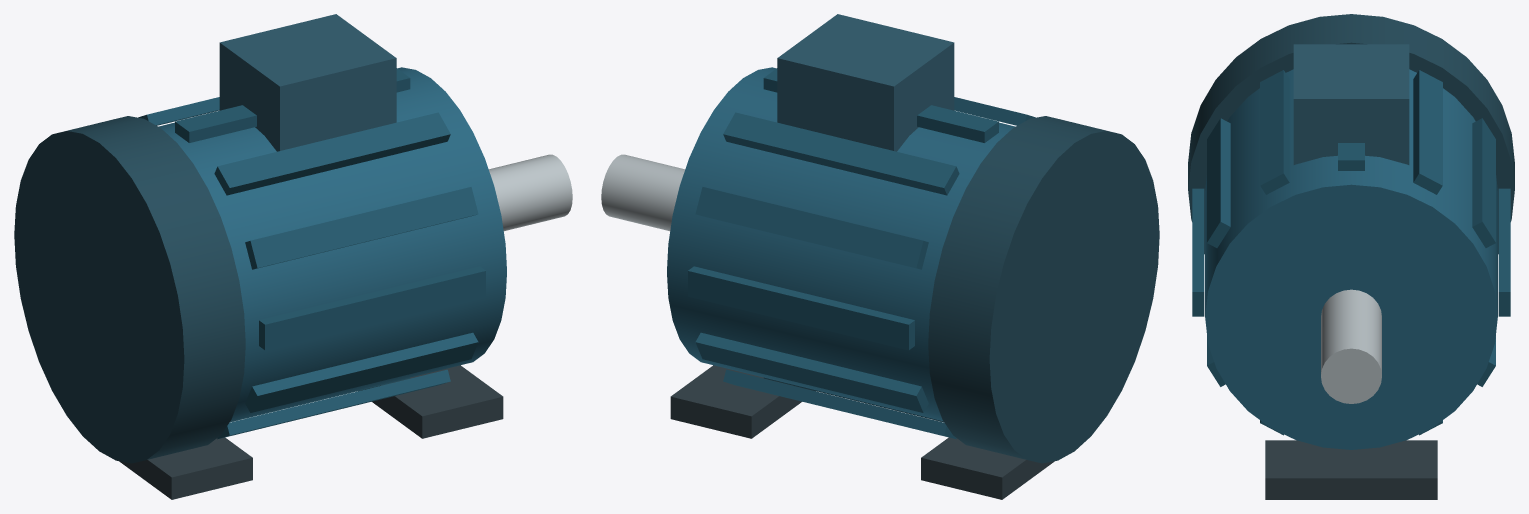
Rendered from industrial-electric-motor.glb.
3 renders of one model, left to right at view 1: azimuth 30°, elevation 25°; view 2: azimuth 150°, elevation 25°; view 3: azimuth 270°, elevation 25°, orthographic. The views are drawn at different scales.
Parts seen in each view (by area): view 1: Fan cover, Stator housing, Terminal box, Mounting rail (×2), Cooling fin 4, Cooling fin 2, Cooling fin 3, Cooling fin 5, Drive shaft, Cooling fin 6, Cooling fin 1, Cooling fin 12; view 2: Fan cover, Stator housing, Terminal box, Mounting rail (×2), Cooling fin 10, Cooling fin 12, Cooling fin 11, Cooling fin 9, Drive shaft, Cooling fin 8, Cooling fin 1, Cooling fin 2; view 3: Stator housing, Fan cover, Terminal box, Mounting rail, Drive shaft, Cooling fin 2, Cooling fin 12, Cooling fin 3, Cooling fin 11, Cooling fin 4, Cooling fin 10, Cooling fin 1.
Boxes of the visible parts, x1,y1,x2,y2 form: Fan cover: (14, 116, 245, 463); Stator housing: (158, 67, 506, 421); Terminal box: (219, 14, 396, 151); Mounting rail (×2): (119, 365, 503, 499); Cooling fin 4: (259, 266, 485, 350); Cooling fin 2: (214, 112, 450, 195); Cooling fin 3: (245, 187, 478, 269); Cooling fin 5: (245, 332, 478, 412); Drive shaft: (488, 154, 572, 231); Cooling fin 6: (217, 369, 450, 439); Cooling fin 1: (175, 68, 410, 142); Cooling fin 12: (138, 97, 219, 125); Fan cover: (928, 116, 1159, 463); Stator housing: (667, 67, 1015, 421); Terminal box: (777, 14, 954, 151); Mounting rail (×2): (670, 365, 1054, 499); Cooling fin 10: (688, 266, 914, 350); Cooling fin 12: (723, 112, 959, 195); Cooling fin 11: (695, 187, 928, 269); Cooling fin 9: (695, 332, 928, 412); Drive shaft: (601, 154, 685, 231); Cooling fin 8: (723, 369, 956, 439); Cooling fin 1: (763, 68, 998, 142); Cooling fin 2: (954, 97, 1035, 125); Stator housing: (1205, 69, 1497, 449); Fan cover: (1188, 14, 1514, 254); Terminal box: (1293, 44, 1409, 164); Mounting rail: (1265, 440, 1437, 499); Drive shaft: (1321, 289, 1381, 403); Cooling fin 2: (1260, 70, 1289, 194); Cooling fin 12: (1413, 70, 1442, 194); Cooling fin 3: (1207, 118, 1230, 247); Cooling fin 11: (1472, 118, 1495, 247); Cooling fin 4: (1192, 188, 1204, 316); Cooling fin 10: (1498, 188, 1510, 316); Cooling fin 1: (1338, 143, 1364, 170).
Bounding box in the file's own units: 1.49 × 1.16 × 0.96.
